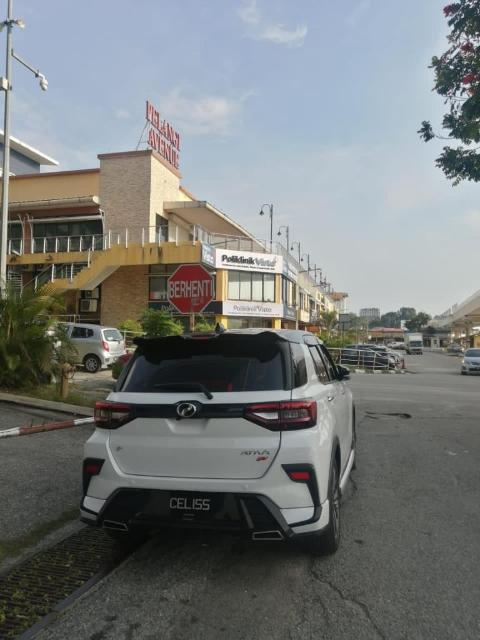License_Plate: (160, 492, 226, 517)
car: (68, 327, 358, 566)
